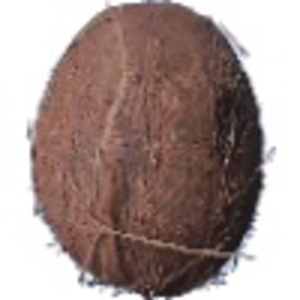coco: (29, 1, 276, 300)
